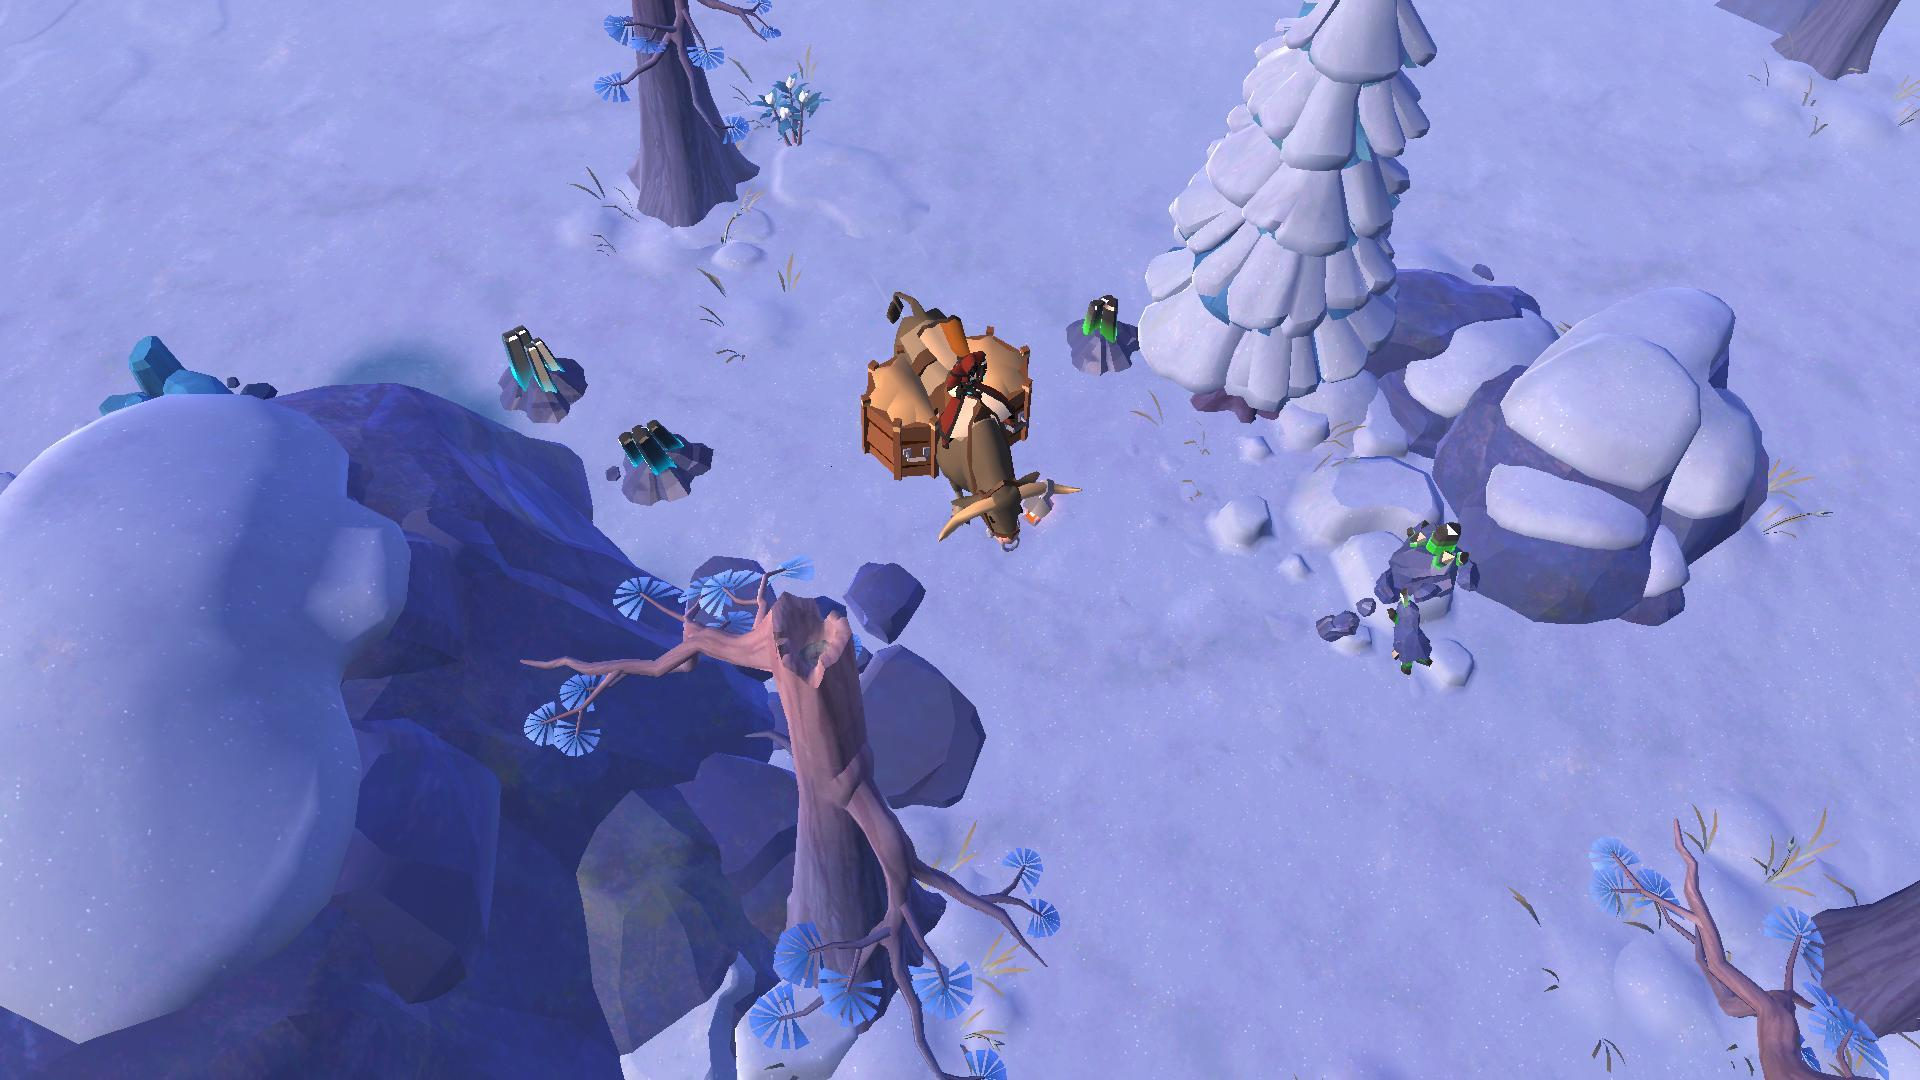fiber_t4: (756, 70, 822, 145)
ore_t3: (1073, 280, 1122, 348)
ore_t4: (497, 319, 570, 396), (611, 410, 687, 479)
rock_t4: (96, 326, 266, 421)
